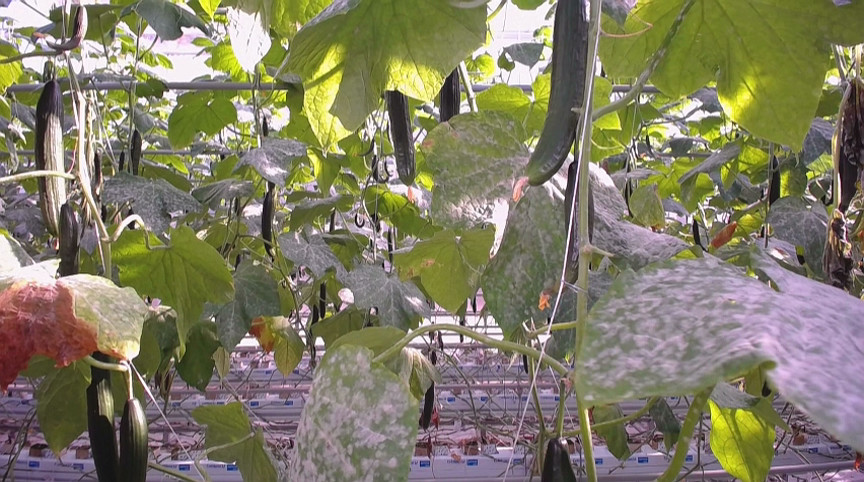cucumber: (527, 1, 593, 187), (35, 81, 69, 238), (554, 163, 594, 295), (91, 349, 118, 482), (387, 86, 418, 189), (120, 396, 149, 482), (58, 203, 81, 279), (540, 438, 577, 482), (439, 68, 462, 123), (261, 190, 278, 260)
